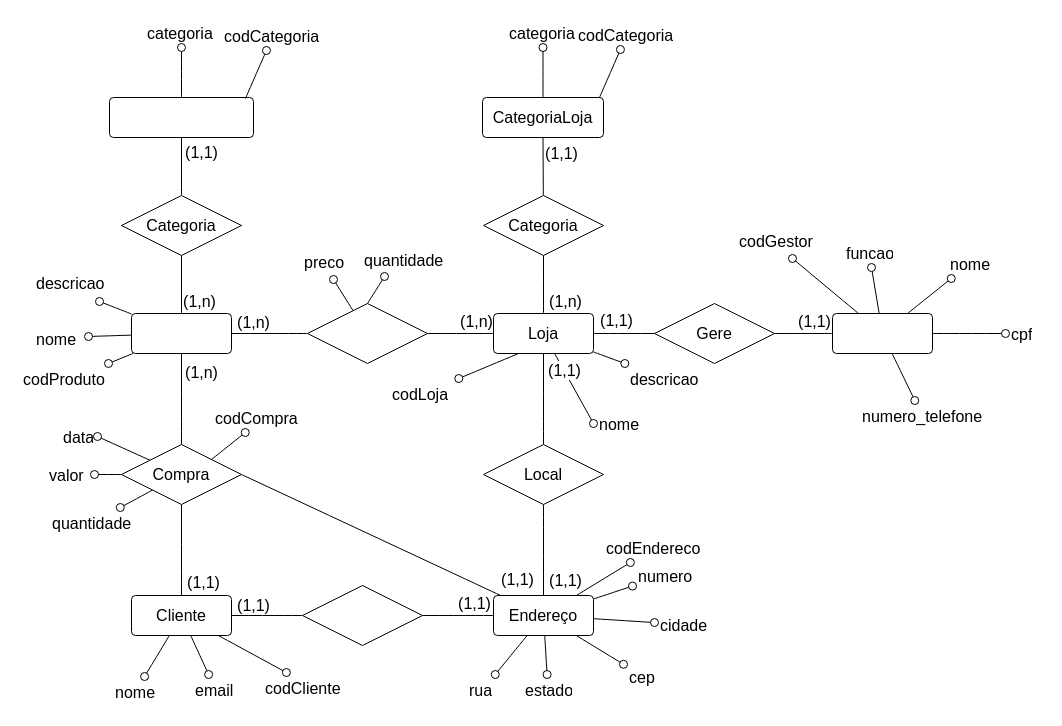
The diagram is 1062 pixels wide and 726 high, and some of its shapes have lost their labels. The centre of each missing label's shape, as x and y in pixels:
CategoriaProduto: (181,117)
Gestor: (882,333)
Mora: (362,615)
Produto: (181,333)
ProdutoLoja: (367,333)
